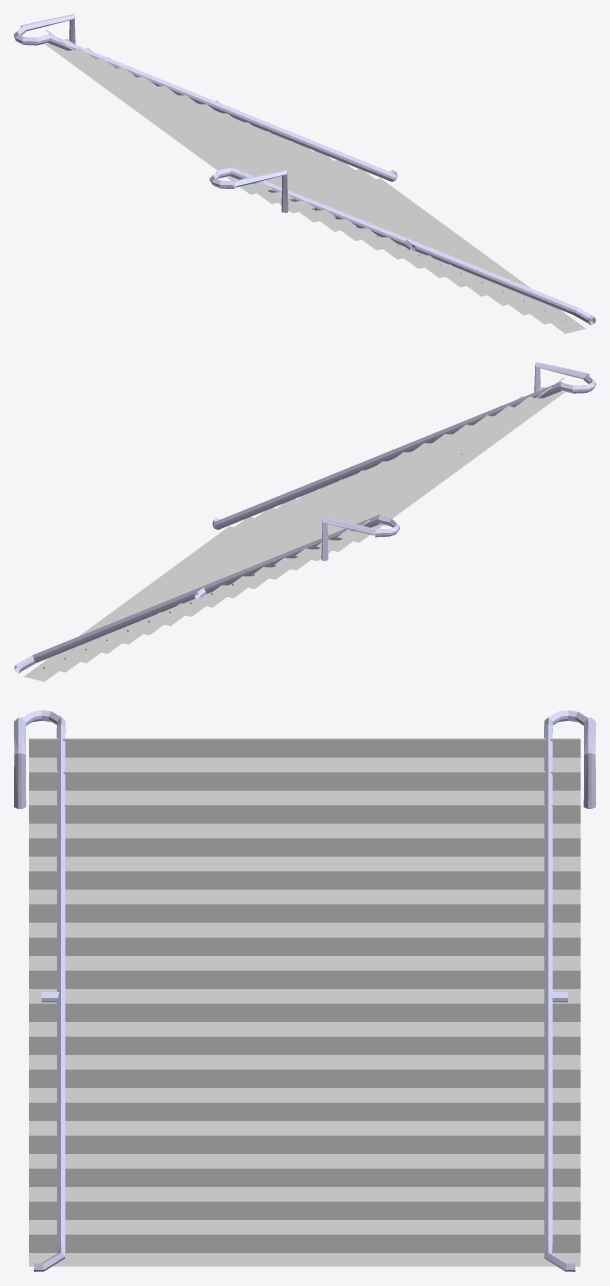
File: Stairs.glb
The picture shows the model from 3 angles, top to bottom: view 1: azimuth 30°, elevation 25°; view 2: azimuth 150°, elevation 25°; view 3: azimuth 270°, elevation 25°; orthographic projection. The views are drawn at different scales.
Parts seen in each view (by area): view 1: Stairs, Stair_railing, Stair_railing_1; view 2: Stairs, Stair_railing, Stair_railing_1; view 3: Stairs, Stair_railing, Stair_railing_1.
Boxes of the visible parts, bbox=[...] form: Stairs: bbox=[45, 29, 585, 333]; Stair_railing: bbox=[48, 34, 595, 325]; Stair_railing_1: bbox=[14, 14, 288, 212]; Stairs: bbox=[24, 377, 564, 681]; Stair_railing: bbox=[14, 381, 562, 673]; Stair_railing_1: bbox=[321, 362, 595, 560]; Stairs: bbox=[29, 738, 580, 1266]; Stair_railing: bbox=[34, 725, 575, 1271]; Stair_railing_1: bbox=[14, 710, 595, 808].
Bounding box in the file's own units: 7.09 × 4.21 × 7.
